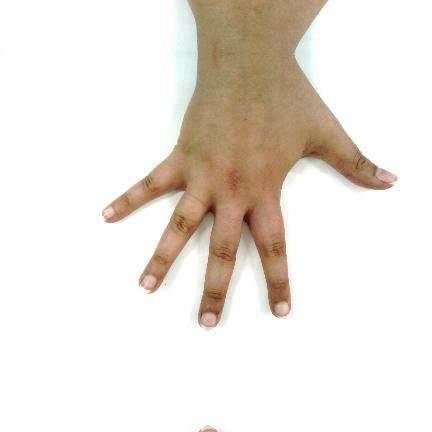Nail: (376, 167, 398, 185), (199, 312, 217, 331), (139, 275, 157, 293), (274, 301, 290, 319), (101, 205, 115, 221), (199, 425, 217, 432)
